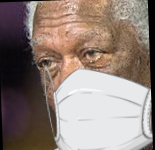good: (0, 0, 150, 150)
